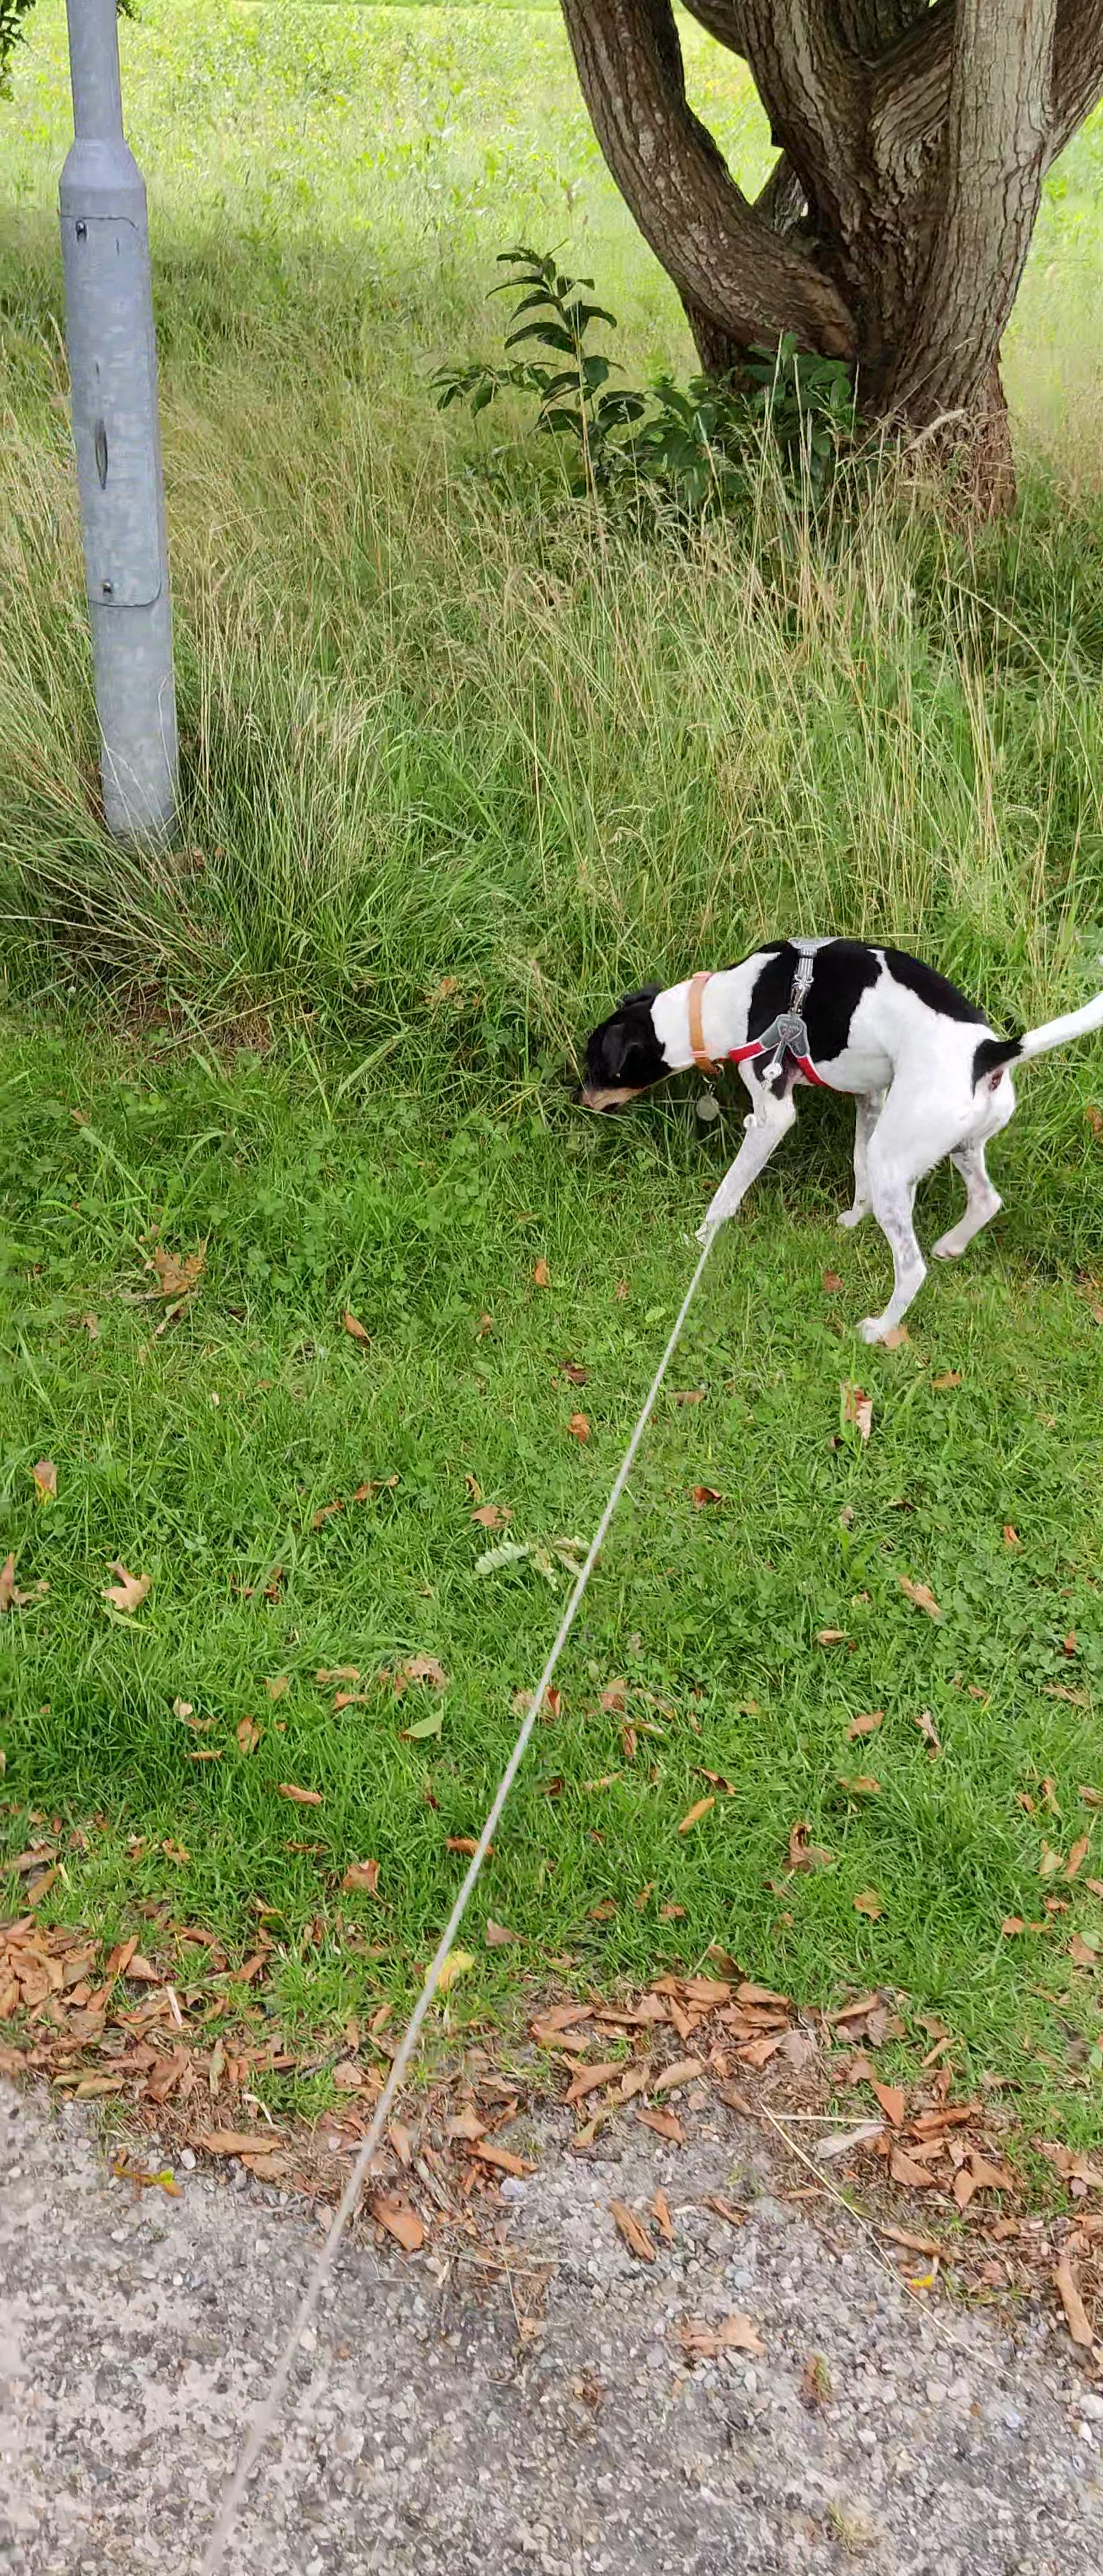Dog: (565, 930, 1103, 1354)
